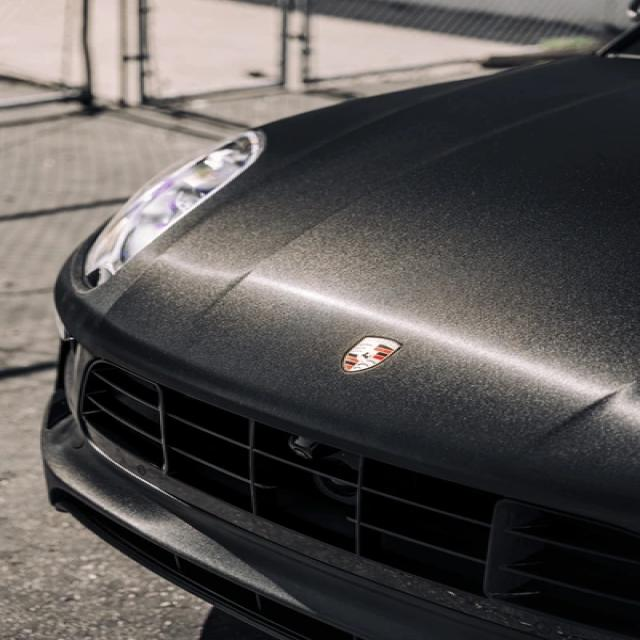porsche: (337, 330, 410, 377)
